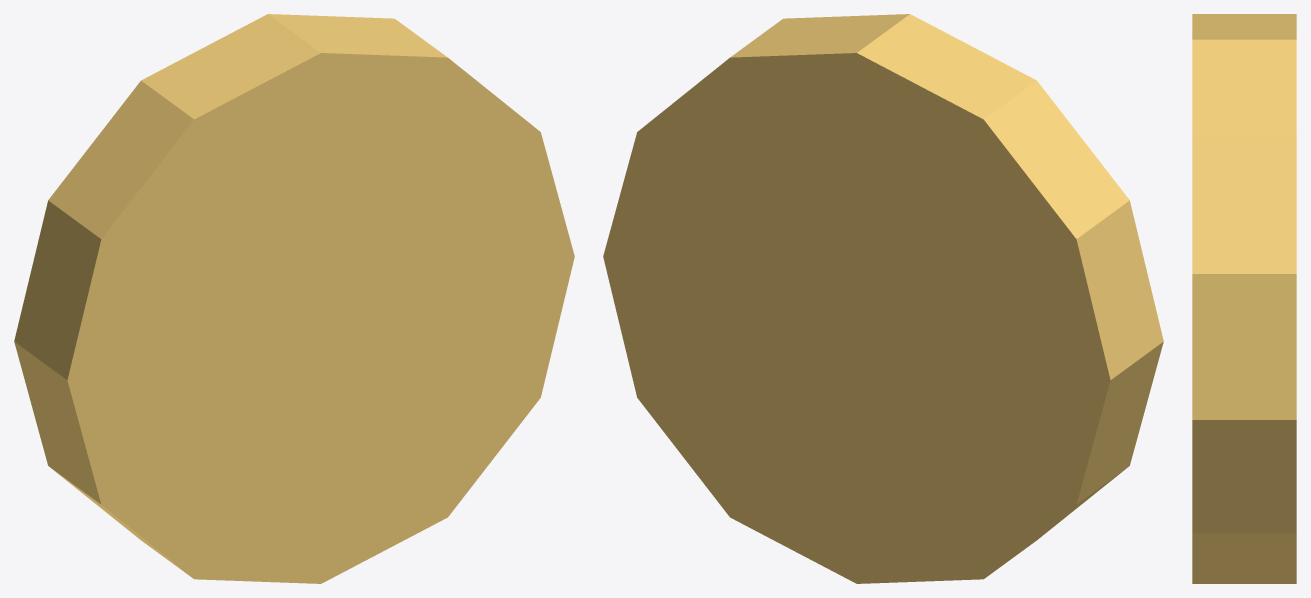
Rendered from coin.glb.
3 renders of one model, left to right at view 1: azimuth 30°, elevation 25°; view 2: azimuth 150°, elevation 25°; view 3: azimuth 270°, elevation 25°, orthographic. The views are drawn at different scales.
Visible parts, largest first — view 1: coin; view 2: coin; view 3: coin.
Boxes of the visible parts, x1,y1,x2,y2 form: coin: (14,14,574,583); coin: (603,14,1163,583); coin: (1192,14,1296,583).
Bounding box in the file's own units: 0.22 × 0.22 × 0.04.
